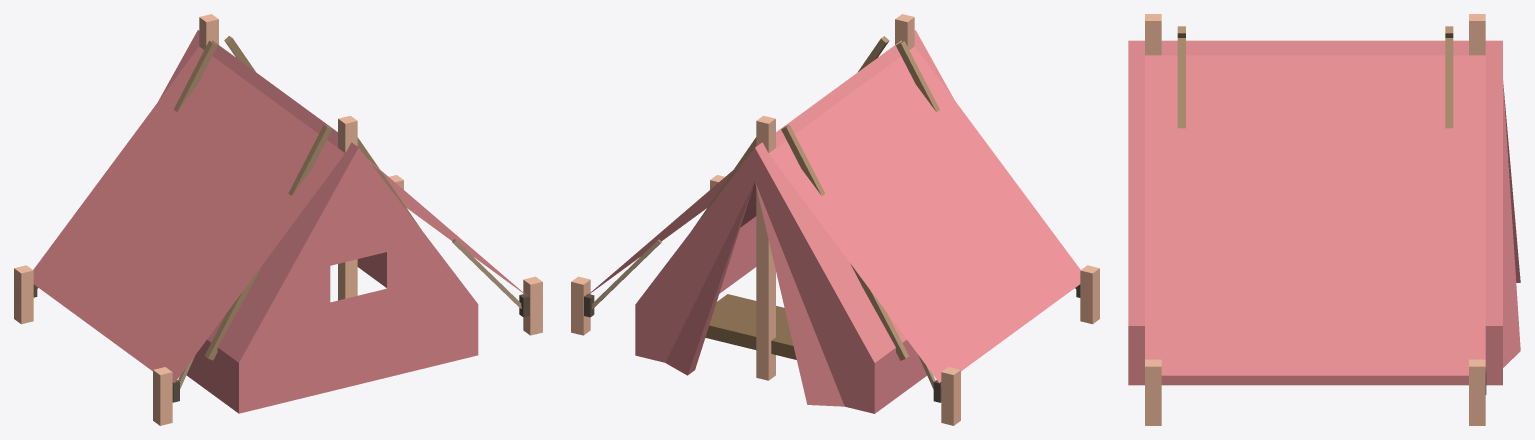
File: tent_detailedOpen.glb
3 renders of one model, left to right at view 1: azimuth 30°, elevation 25°; view 2: azimuth 150°, elevation 25°; view 3: azimuth 270°, elevation 25°, orthographic. The views are drawn at different scales.
Parts seen in each view (by area): view 1: tent_detailedOpen, Canvas_webbing_and_guylines; view 2: tent_detailedOpen, Canvas_webbing_and_guylines; view 3: tent_detailedOpen, Canvas_webbing_and_guylines.
Part boxes in pixels (x1=…): tent_detailedOpen: x1=14, y1=14, x2=542, y2=425; Canvas_webbing_and_guylines: x1=33, y1=36, x2=529, y2=402; tent_detailedOpen: x1=571, y1=14, x2=1099, y2=425; Canvas_webbing_and_guylines: x1=584, y1=36, x2=1080, y2=402; tent_detailedOpen: x1=1128, y1=14, x2=1520, y2=425; Canvas_webbing_and_guylines: x1=1177, y1=26, x2=1486, y2=394.
Bounding box in the file's own units: 0.8749 × 0.5611 × 0.6664.
